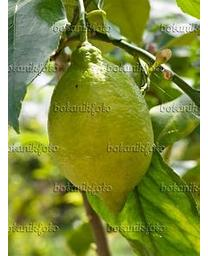lemon: (47, 44, 153, 213)
